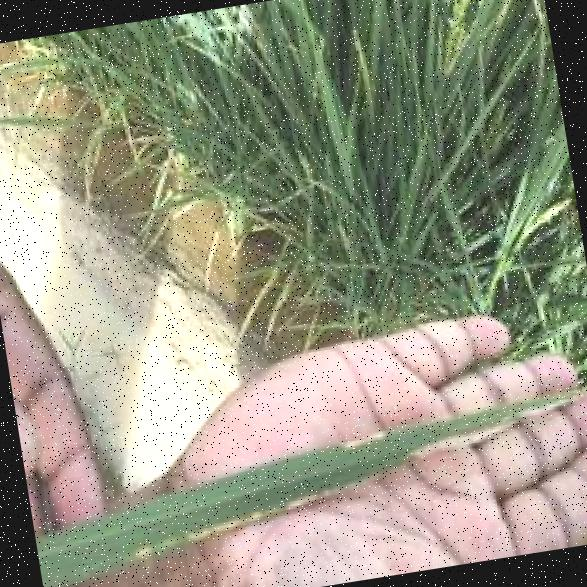Bacteria_Leaf_Blight: (112, 458, 421, 562), (325, 407, 434, 458)
